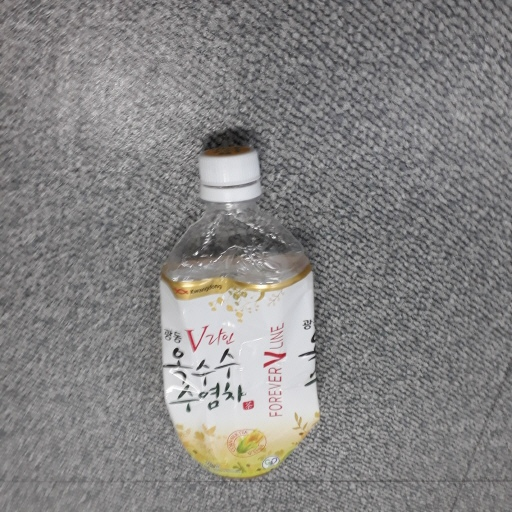Plastic_0: (157, 145, 326, 477)
